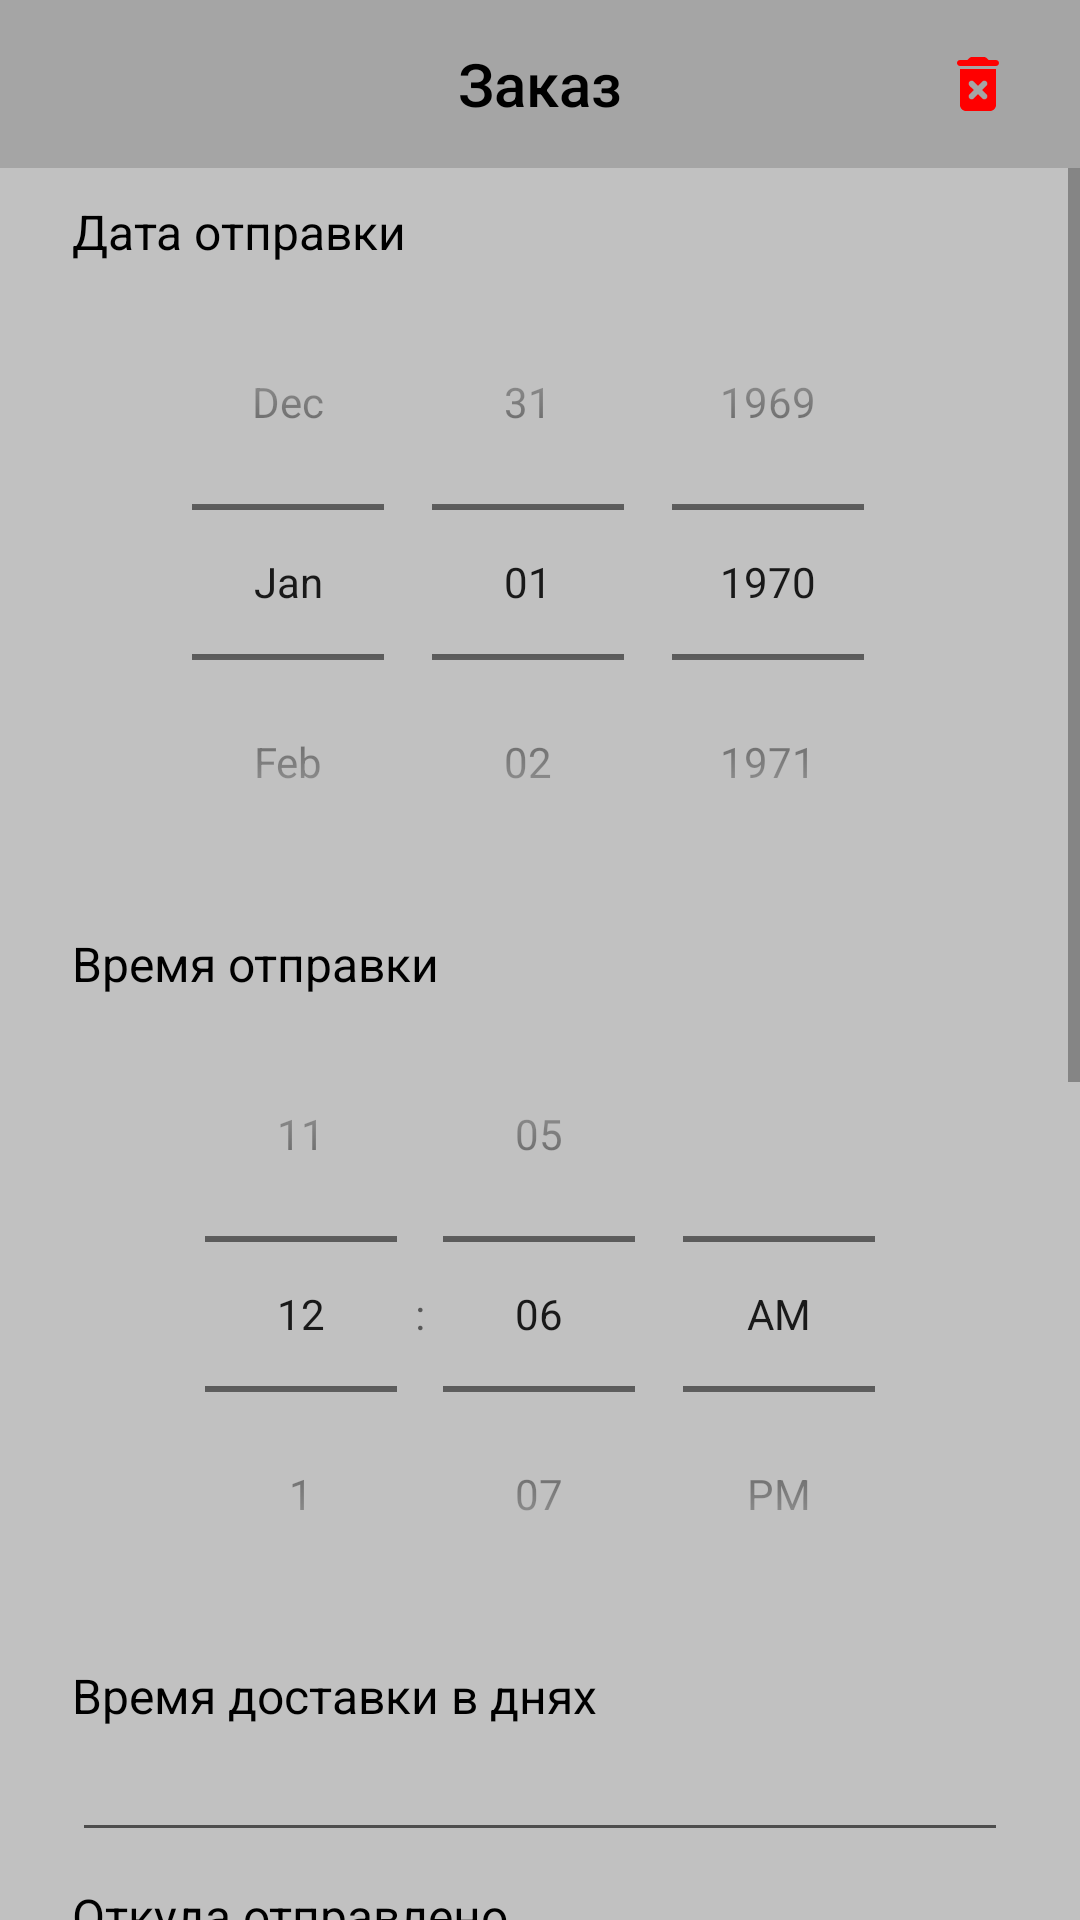

Screen size 1080w x 1920h. Icon name, then its box in pixels as (x1, y1, x2, y2):
delete: (957, 57, 999, 111)
